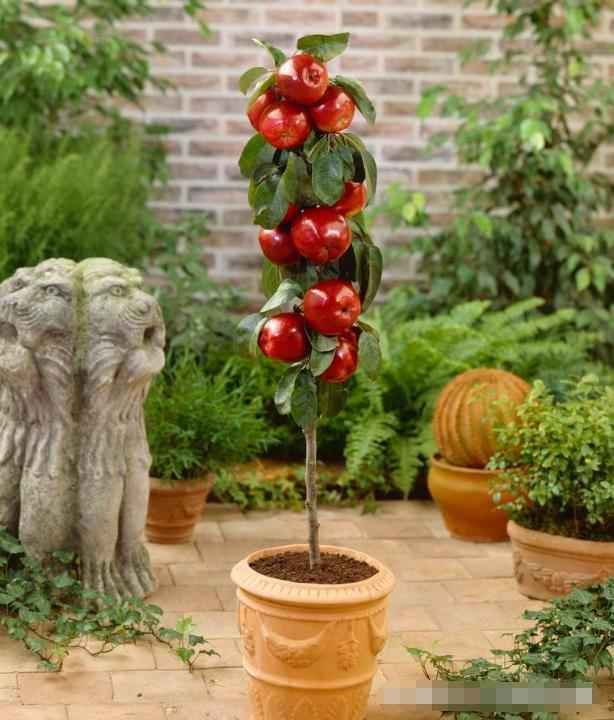apple: (290, 204, 351, 263), (301, 282, 361, 334), (276, 55, 327, 104), (257, 313, 310, 360), (258, 103, 307, 147), (314, 336, 357, 382), (312, 85, 355, 131), (259, 222, 299, 265)
